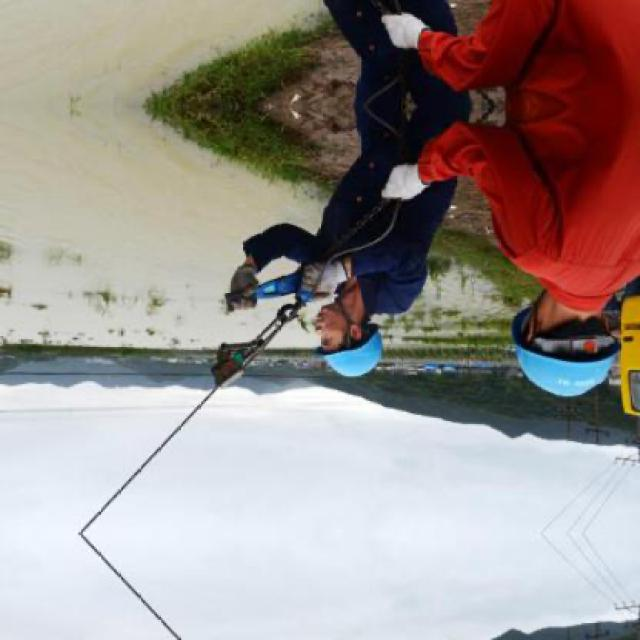con casco: (500, 287, 640, 428), (264, 290, 411, 402)
